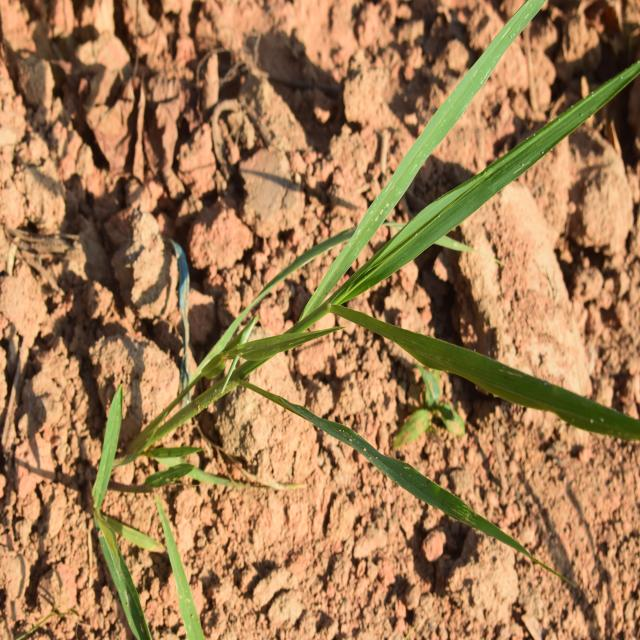green_foxtail: (202, 88, 589, 535)
